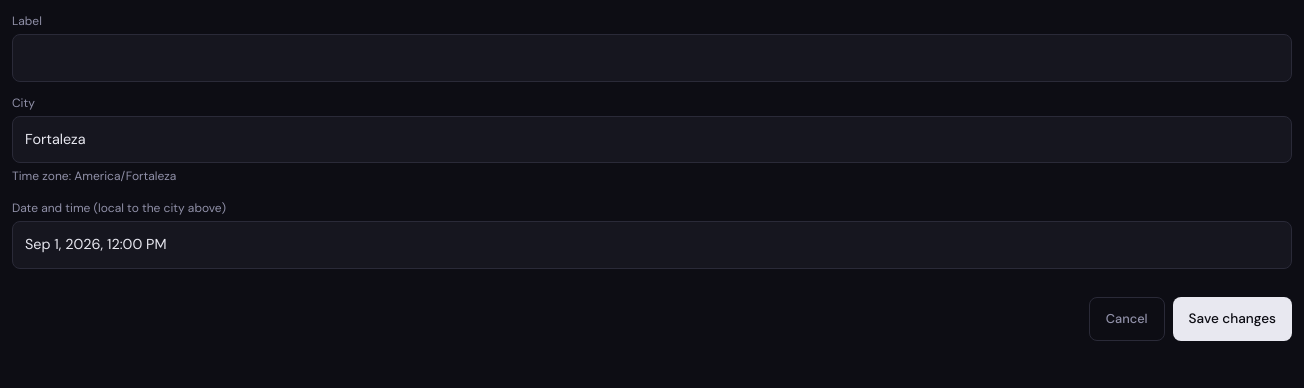
Scenario: CountdownForm › recovers from a network failure instead of remaining in its saving state
This screenshot has width=1304, height=388.
Click the button "Save changes": (1232,319) [1173,297,1292,341]
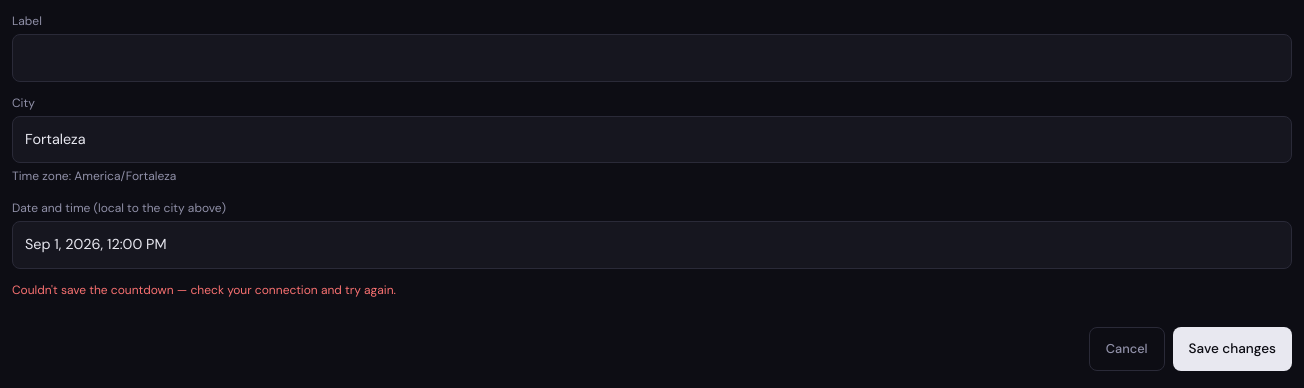
expect the button "Save changes" is enabled: met, box [1173,327,1292,371]
expect the message shows "Couldn't save the countdown": met, box [12,282,396,298]
